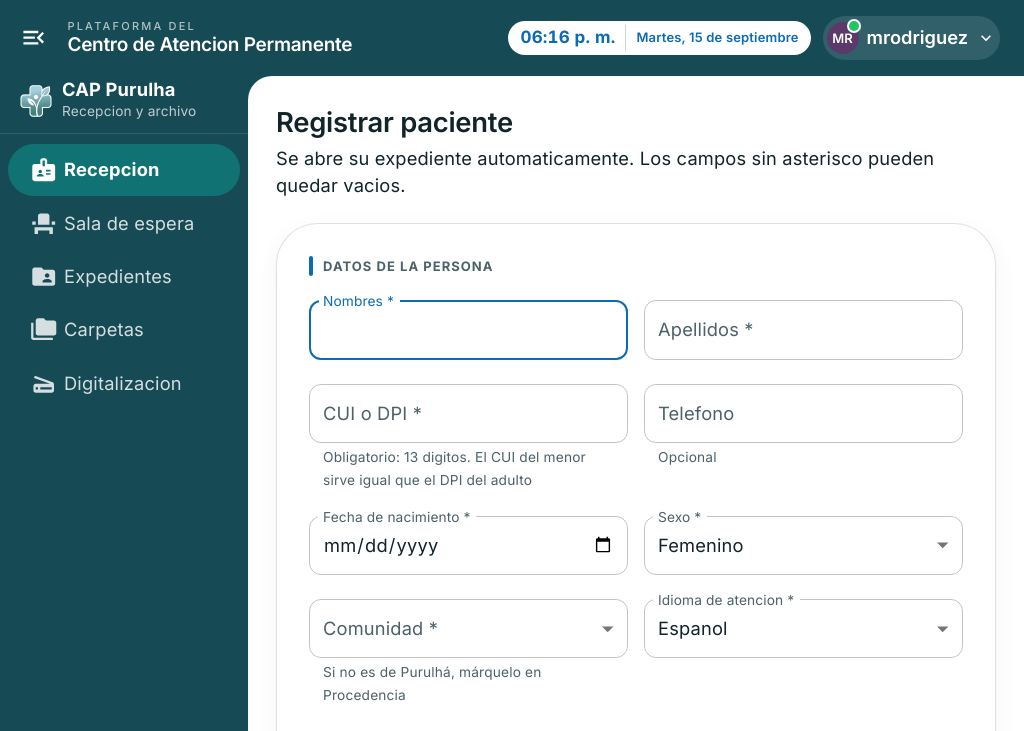
Test: alta de paciente › rechaza un CUI o DPI que no tenga 13 digitos, sin ir al servidor
Type "12345" into the field labelled "CUI o DPI *" at (468, 413), box top-left (309, 384), bottom-right (628, 443)
(page scrolled)
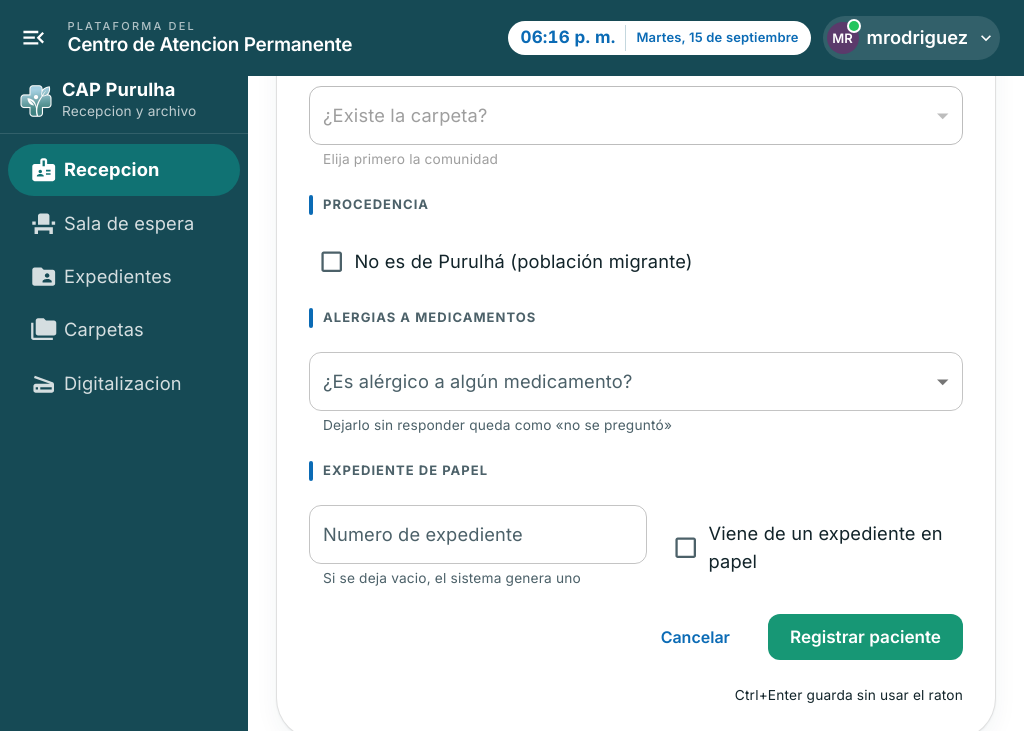
Click the button "Registrar paciente" at (865, 637), box top-left (768, 614), bottom-right (963, 660)
(page scrolled)
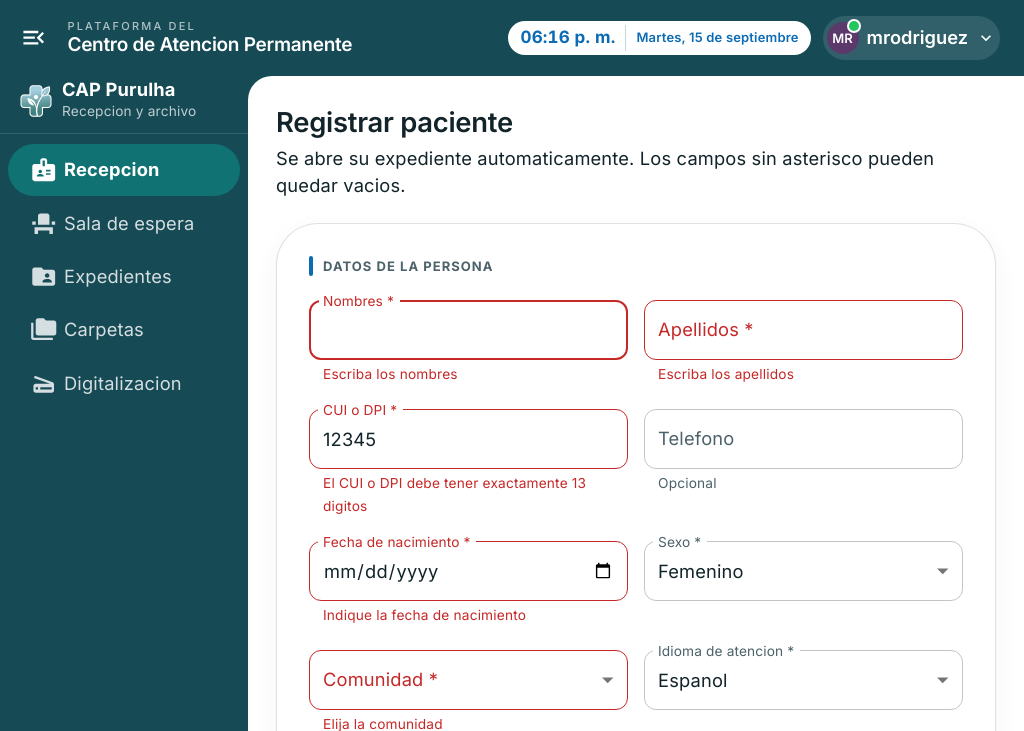
Result: the text "El CUI o DPI debe tener exactamente 13 digitos" is shown at top-left (323, 472), bottom-right (614, 517)
